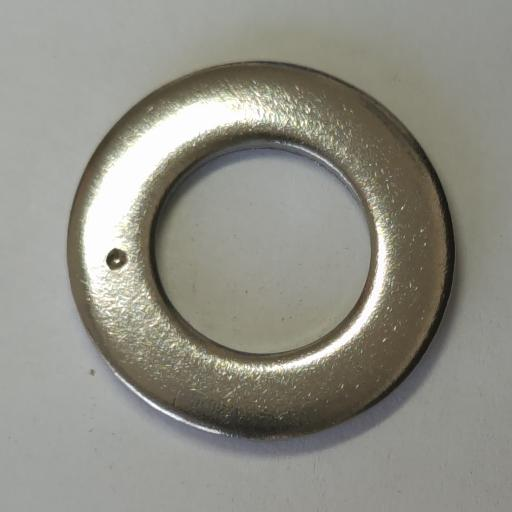circular_cavity: (105, 247, 129, 271)
